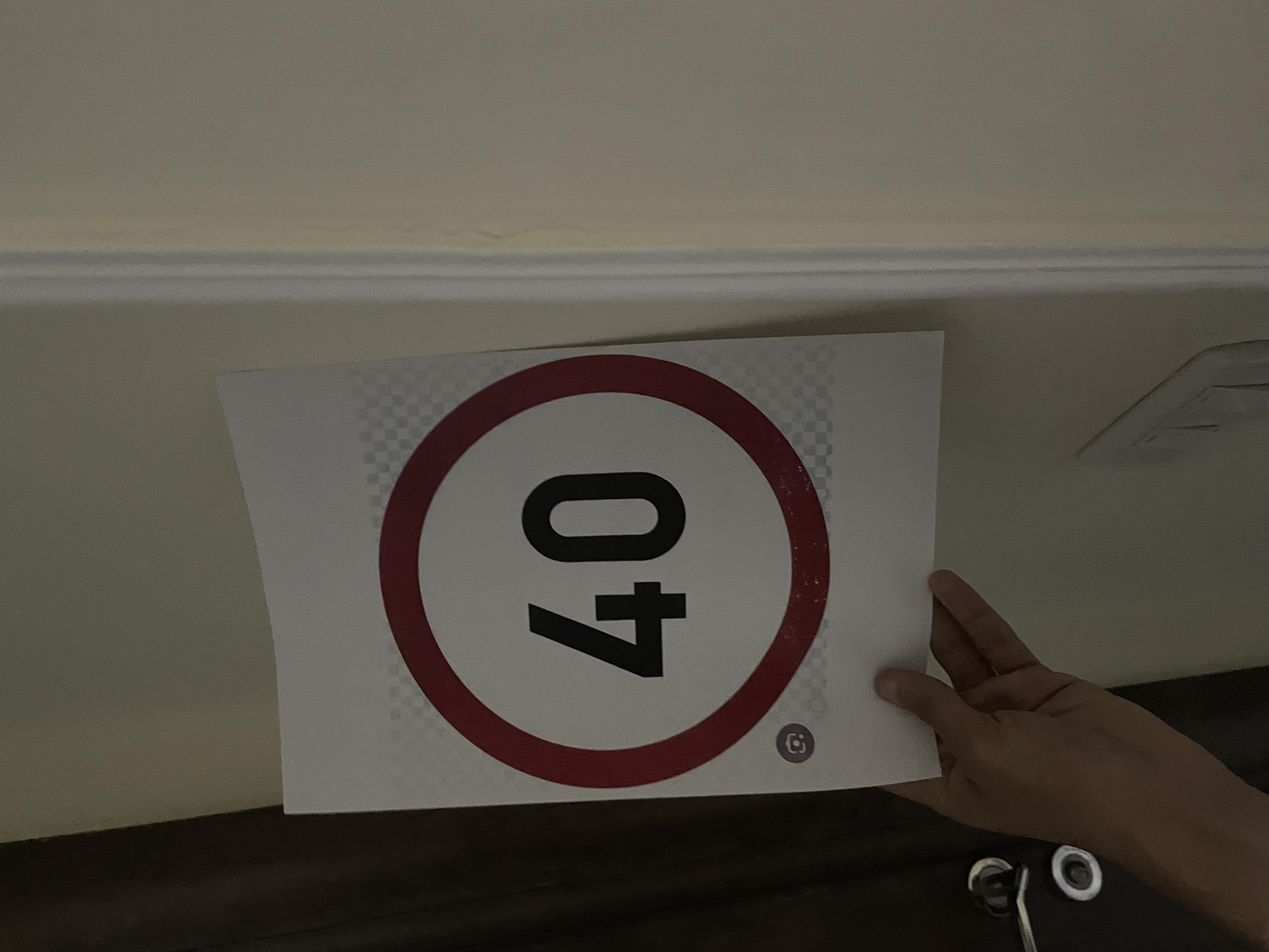40-Speed: (223, 298, 804, 617)
